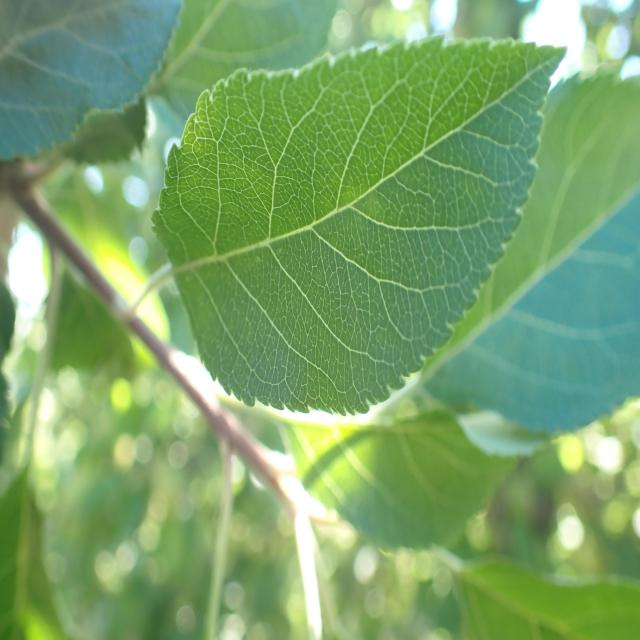healthy: (151, 33, 568, 417), (420, 61, 640, 442), (278, 408, 516, 552), (0, 0, 183, 162)
